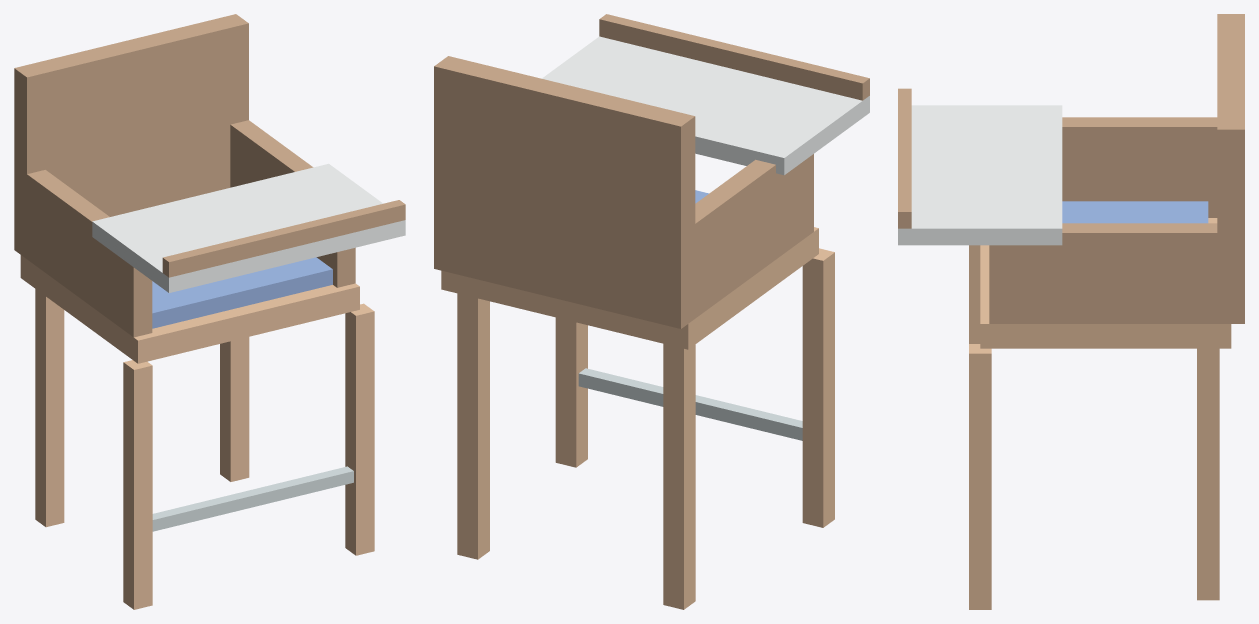
File: highChair.glb
The picture shows the model from 3 angles, left to right: view 1: azimuth 30°, elevation 25°; view 2: azimuth 150°, elevation 25°; view 3: azimuth 270°, elevation 25°; orthographic projection. The views are drawn at different scales.
Visible parts, largest first — view 1: highChair; view 2: highChair; view 3: highChair.
Boxes of the visible parts, x1,y1,x2,y2 form: highChair: (14, 14, 405, 609); highChair: (434, 14, 869, 609); highChair: (898, 14, 1244, 609).
Bounding box in the file's own units: 0.325 × 0.575 × 0.38.
